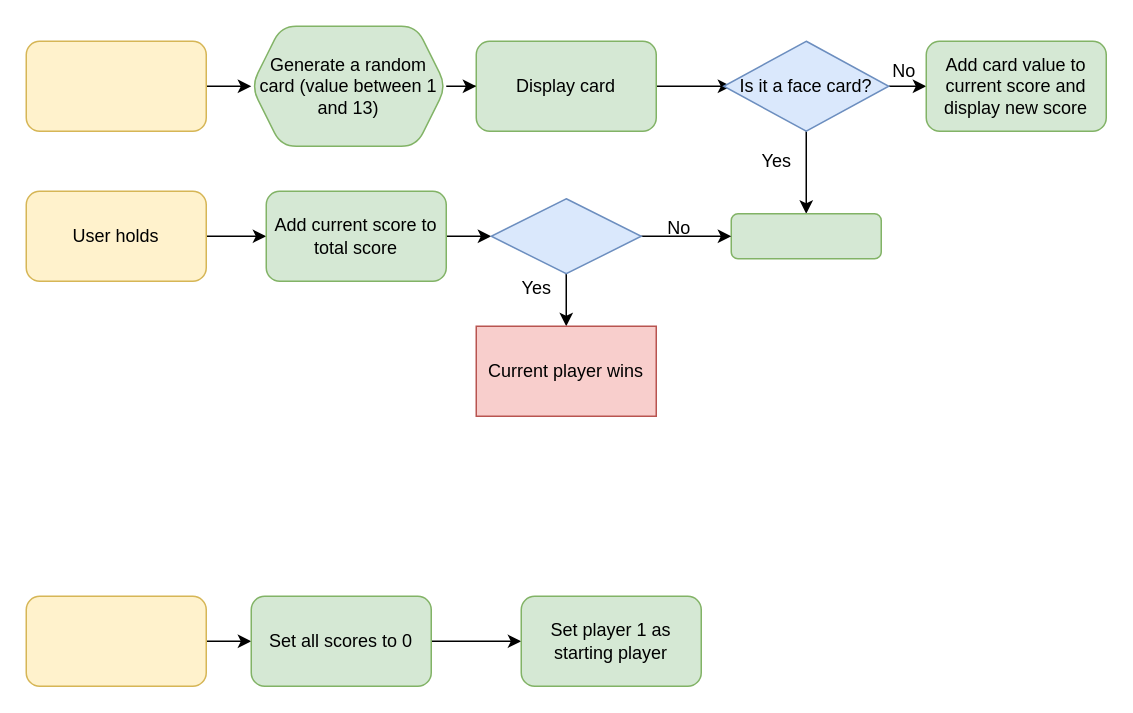
The diagram is 1133 pixels wide and 713 high, and some of its shapes have lost their labels. Here are the shapes that lost their labels. From the top down, the centre of each, then its label:
pixel 115 85: User flips a card
pixel 565 235: Score >= 100?
pixel 805 235: Switch Player
pixel 115 640: User resets game
